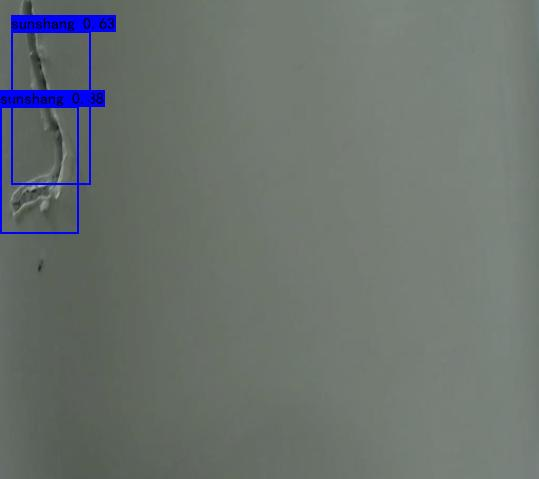fengxi: (3, 1, 81, 233)
